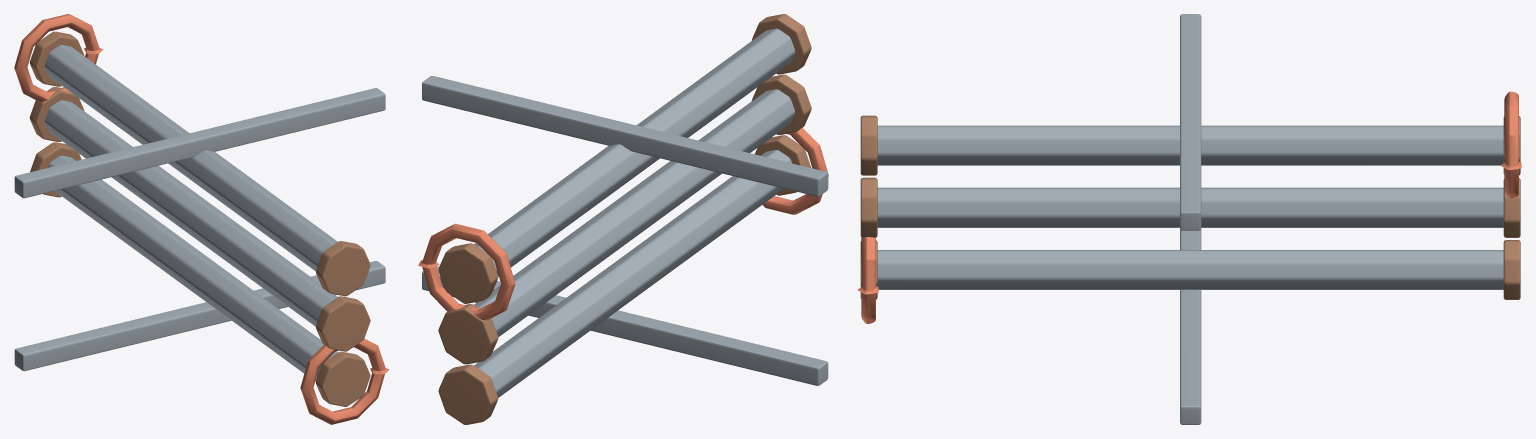
File: pipe_manifold.glb
3 renders of one model, left to right at view 1: azimuth 30°, elevation 25°; view 2: azimuth 150°, elevation 25°; view 3: azimuth 270°, elevation 25°, orthographic. The views are drawn at different scales.
Visible parts, largest first — view 1: pipe_manifold; view 2: pipe_manifold; view 3: pipe_manifold.
Boxes of the visible parts, x1=… form: pipe_manifold: x1=14, y1=14, x2=389, y2=424; pipe_manifold: x1=418, y1=14, x2=828, y2=424; pipe_manifold: x1=857, y1=14, x2=1521, y2=424.
Bounding box in the file's own units: 1.1 × 0.5859 × 1.55.
